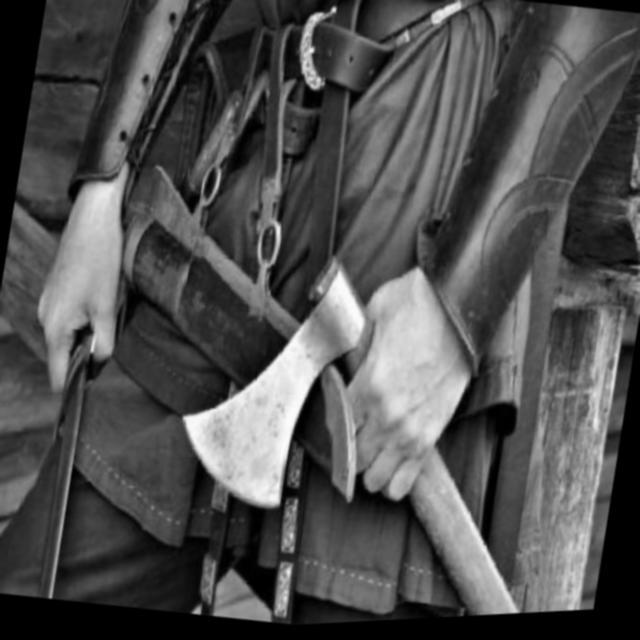weapon: (148, 202, 606, 634)
